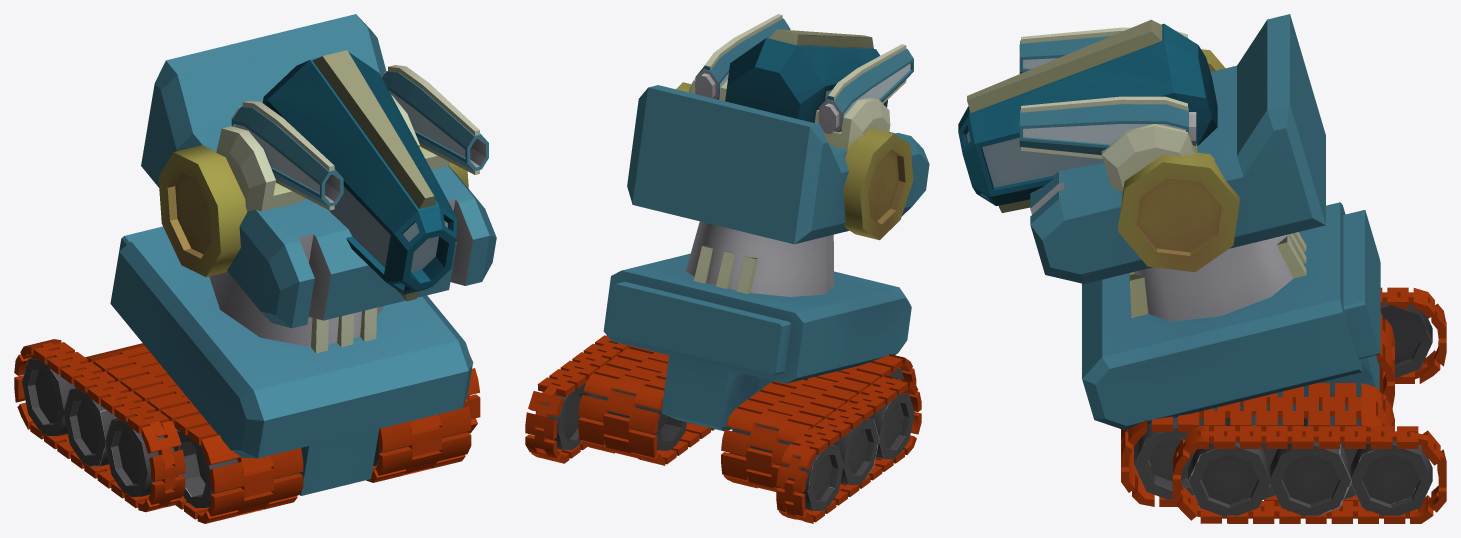
File: player_move_2_upgrade1.obj
3 views of the same model, side by side, from view 1: azimuth 30°, elevation 25°; view 2: azimuth 150°, elevation 25°; view 3: azimuth 270°, elevation 25° (orthographic). The views are drawn at different scales.
Visible parts, largest first — view 1: Object004, Object012, Box038, Box043, Object013, Box042, Object011, Box044; view 2: Object004, Box038, Box042, Box043, Object012, Object013, Box044, Object011, Object014; view 3: Object004, Object014, Box044, Object012, Box042, Object011, Object013, Box043, Box038.
Part boxes in pixels (bbox=[...]): Object004: bbox=[110, 14, 496, 495]; Object012: bbox=[231, 65, 488, 210]; Box038: bbox=[85, 343, 303, 523]; Box043: bbox=[14, 339, 185, 512]; Object013: bbox=[22, 357, 174, 496]; Box042: bbox=[366, 398, 471, 482]; Object011: bbox=[174, 425, 461, 507]; Box044: bbox=[461, 356, 480, 433]; Object004: bbox=[603, 29, 929, 431]; Box038: bbox=[721, 354, 916, 491]; Box042: bbox=[578, 346, 714, 465]; Box043: bbox=[776, 375, 921, 523]; Object012: bbox=[695, 14, 913, 133]; Object013: bbox=[783, 392, 914, 510]; Box044: bbox=[525, 335, 629, 463]; Object011: bbox=[587, 368, 903, 466]; Object014: bbox=[535, 360, 609, 449]; Object004: bbox=[958, 14, 1380, 429]; Object014: bbox=[1188, 430, 1432, 517]; Box044: bbox=[1172, 426, 1446, 523]; Object012: bbox=[1019, 27, 1196, 158]; Box042: bbox=[1121, 383, 1394, 506]; Object011: bbox=[1134, 360, 1378, 499]; Object013: bbox=[1378, 302, 1432, 378]; Box043: bbox=[1380, 287, 1446, 383]; Box038: bbox=[1376, 313, 1394, 408].
Bounding box in the file's own units: 139 × 179 × 187.
Materials: 4 (2 with a texture image).
